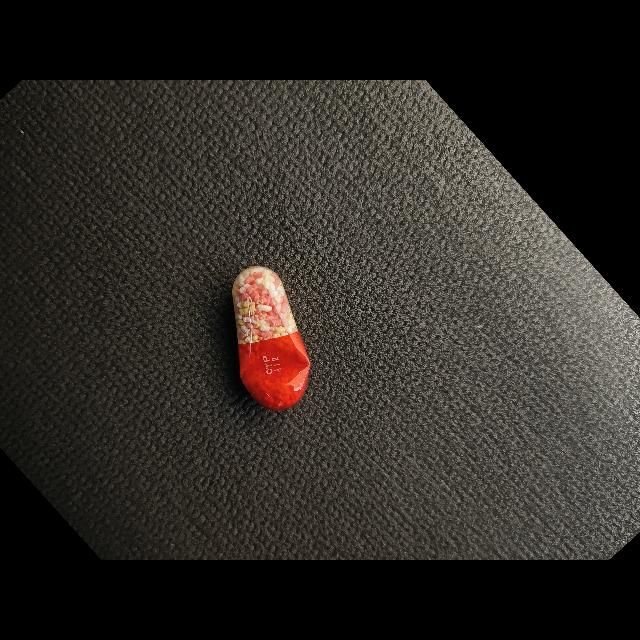Defective Capsule: (232, 287, 311, 411)
